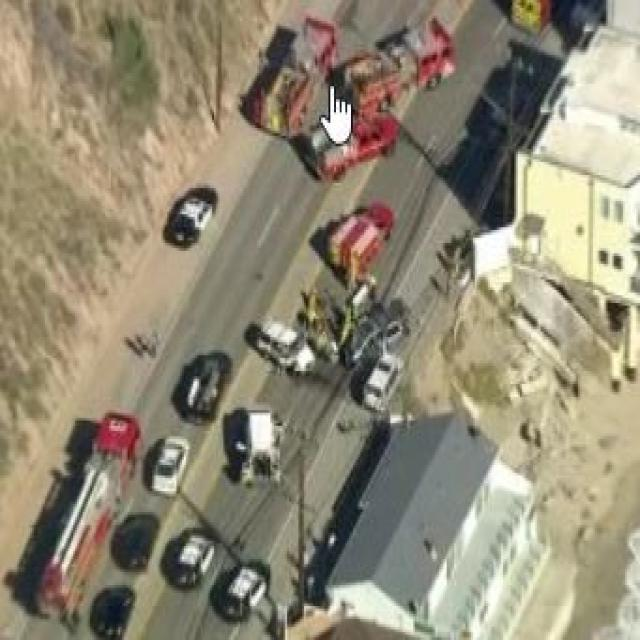traffic_incident: (238, 180, 417, 402)
